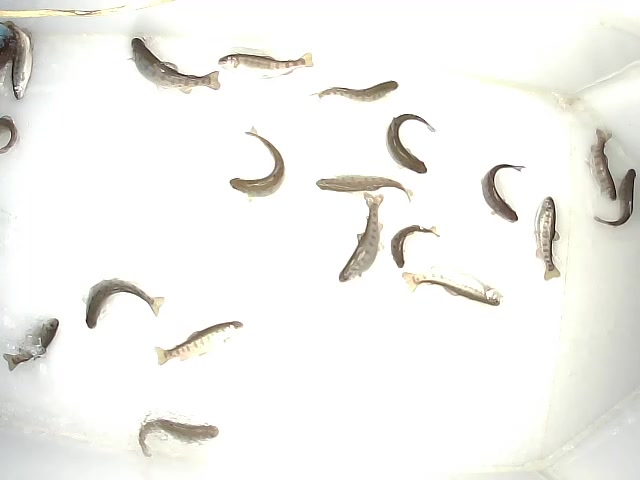fish: (125, 36, 221, 95), (228, 125, 287, 205), (81, 277, 166, 331), (153, 320, 245, 368), (338, 191, 385, 284), (402, 266, 505, 307), (1, 316, 61, 373), (385, 112, 439, 175), (136, 418, 220, 458), (315, 175, 415, 205), (218, 51, 314, 80), (592, 167, 637, 227), (1, 20, 34, 101), (480, 163, 524, 223), (584, 126, 618, 203), (532, 195, 561, 281), (390, 223, 441, 269), (309, 80, 400, 103)
